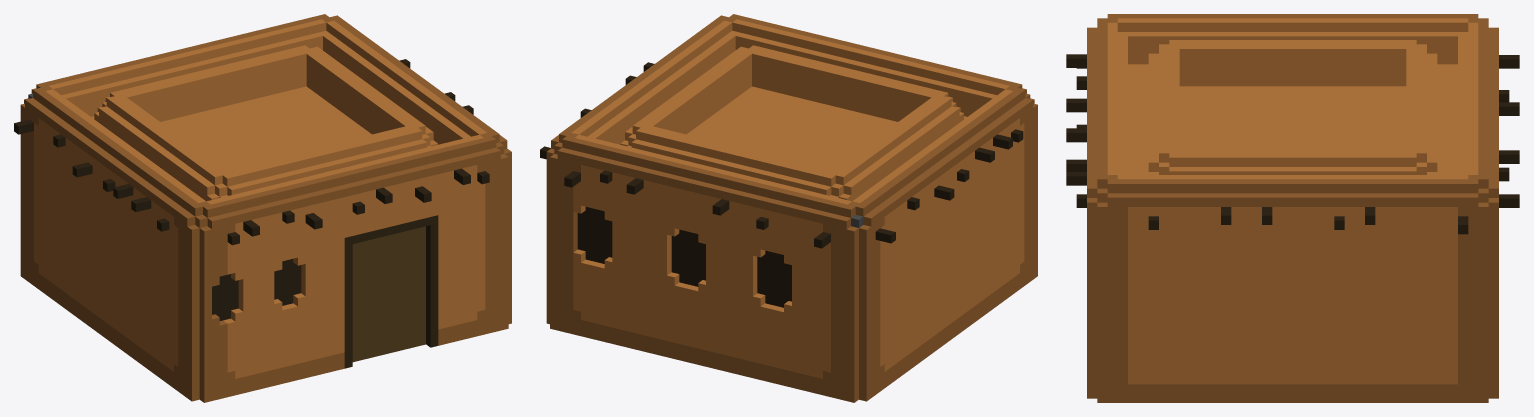
Rendered from fixed_house1.obj.
3 renders of one model, left to right at view 1: azimuth 30°, elevation 25°; view 2: azimuth 150°, elevation 25°; view 3: azimuth 270°, elevation 25°, orthographic. The views are drawn at different scales.
Size of the model in its own units: 4.5 by 2.3 by 4.4.
Materials: 1 (1 with a texture image).
